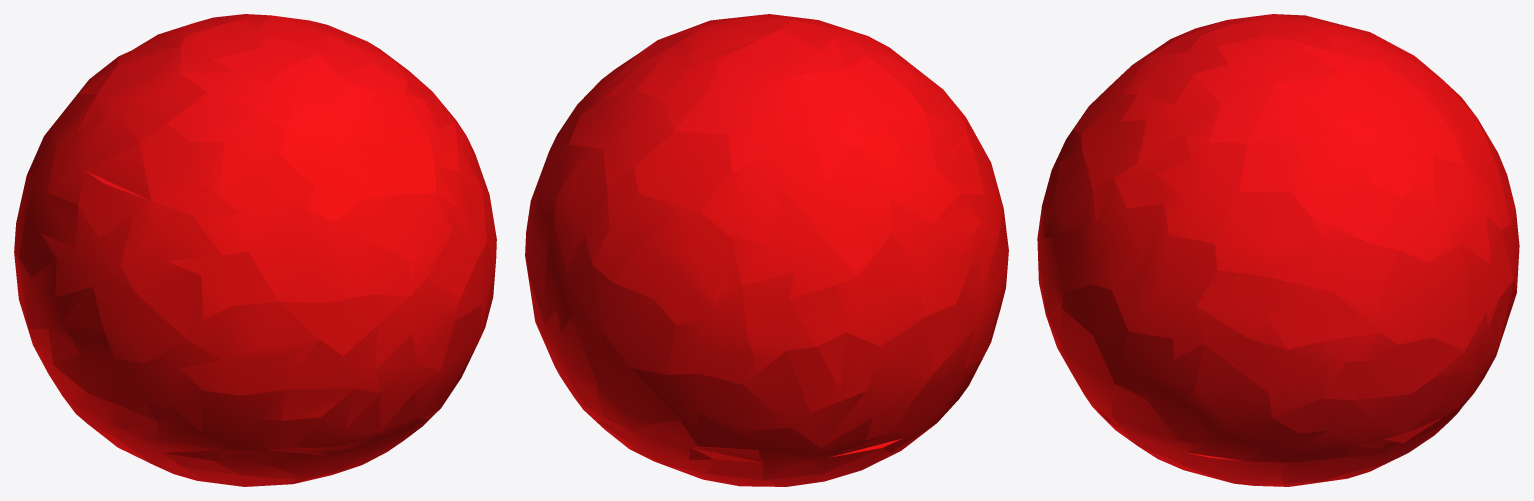
Rendered from dog_ball.glb.
The picture shows the model from 3 angles, left to right: view 1: azimuth 30°, elevation 25°; view 2: azimuth 150°, elevation 25°; view 3: azimuth 270°, elevation 25°; orthographic projection.
Bounding box in the file's own units: 1.9 × 1.8 × 1.9.
Materials: 1 (1 with a texture image).
